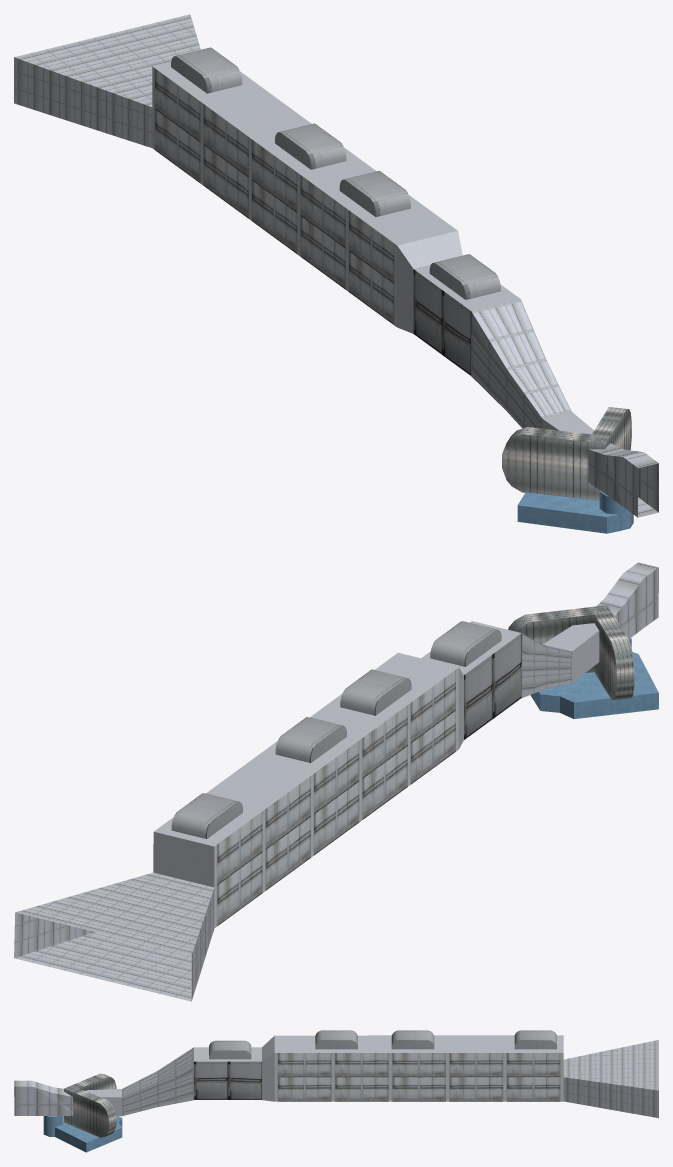
Rendered from Refinery08 (3).fbx.
The picture shows the model from 3 angles, top to bottom: view 1: azimuth 30°, elevation 25°; view 2: azimuth 150°, elevation 25°; view 3: azimuth 270°, elevation 25°; orthographic projection. The views are drawn at different scales.
Parts seen in each view (by area): view 1: Refinery08__3_; view 2: Refinery08__3_; view 3: Refinery08__3_.
Boxes of the visible parts, x1,y1,x2,y2 form: Refinery08__3_: (14,14,658,533); Refinery08__3_: (14,562,658,1001); Refinery08__3_: (14,1030,658,1152).
Bounding box in the file's own units: 1121 × 991 × 5966.
